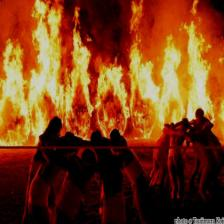fire: (0, 0, 224, 148)
